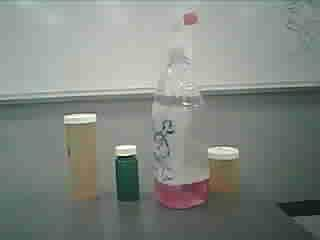Bottle A: (57, 104, 106, 213)
Bottle B: (207, 137, 248, 203)
Bottle C: (110, 137, 144, 209)
hazard: (148, 10, 211, 208)
